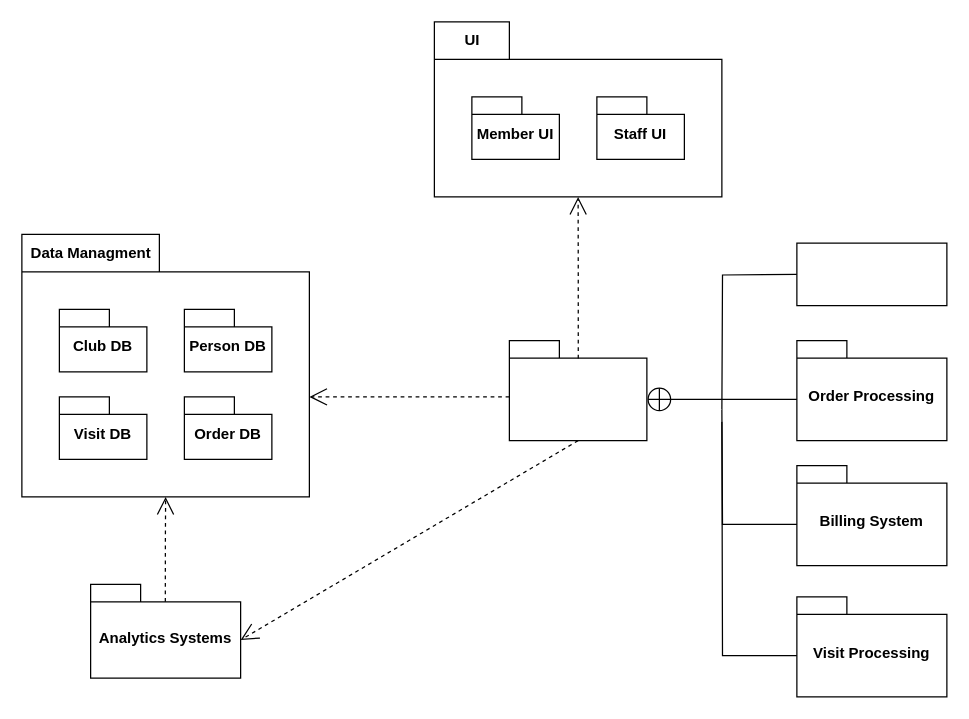
Image size: 969x719. Some labels were removed from this diagram. The centre of each missing label's shape, as x and y in pixels:
Club System: (x=577, y=390)
Scheduler: (x=871, y=274)
